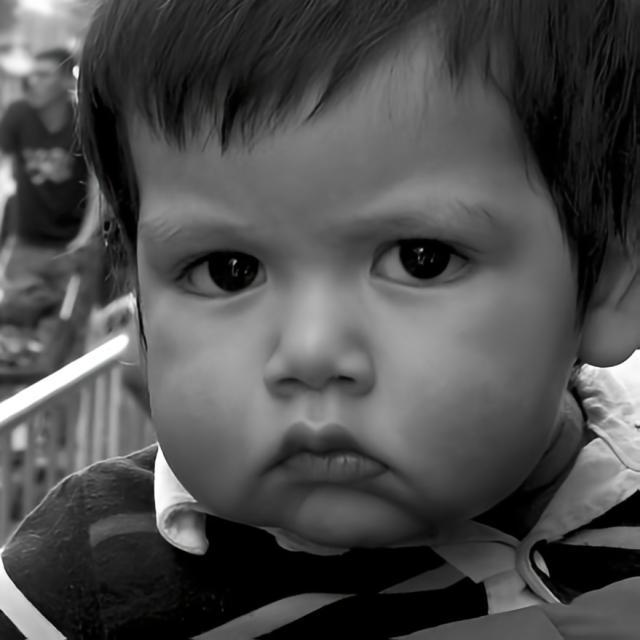anger: (137, 81, 547, 544)
